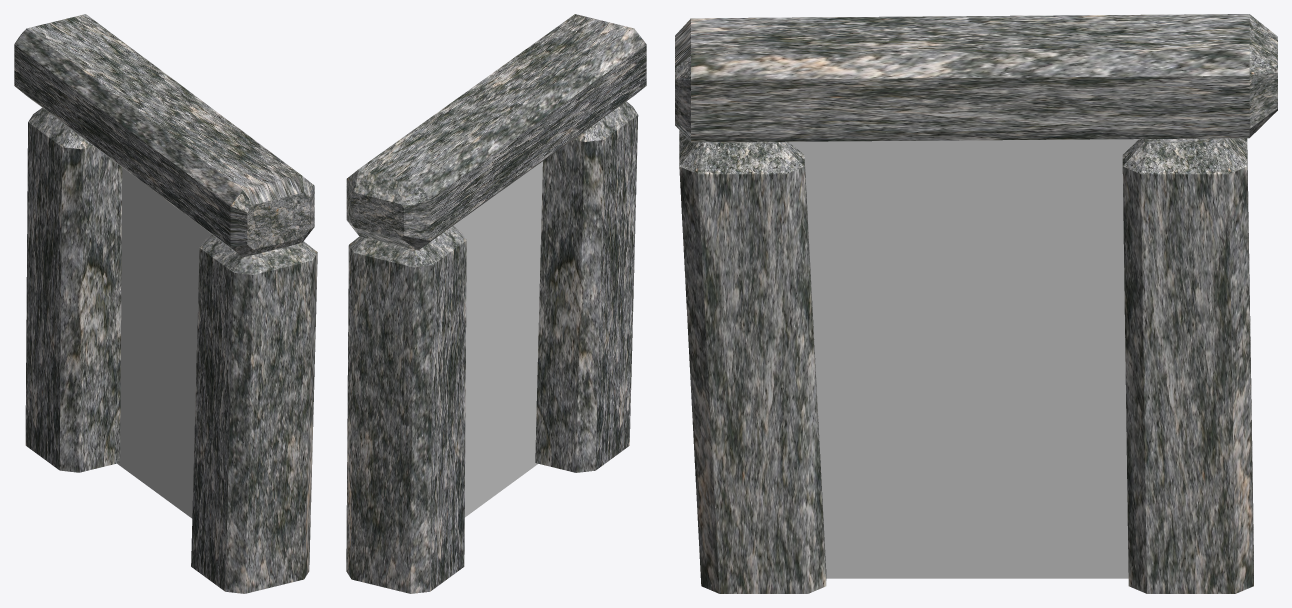
The model's file is bogen.fbx.
The picture shows the model from 3 angles, left to right: view 1: azimuth 30°, elevation 25°; view 2: azimuth 150°, elevation 25°; view 3: azimuth 270°, elevation 25°; orthographic projection. The views are drawn at different scales.
Parts seen in each view (by area): view 1: Bogen, Plane; view 2: Bogen, Plane; view 3: Bogen, Plane.
Boxes of the visible parts, x1,y1,x2,y2 form: Bogen: (14,14,317,593); Plane: (117,167,211,518); Bogen: (346,14,646,593); Plane: (453,161,542,517); Bogen: (675,14,1277,593); Plane: (788,139,1138,578).
Bounding box in the file's own units: 214 × 943 × 963.
